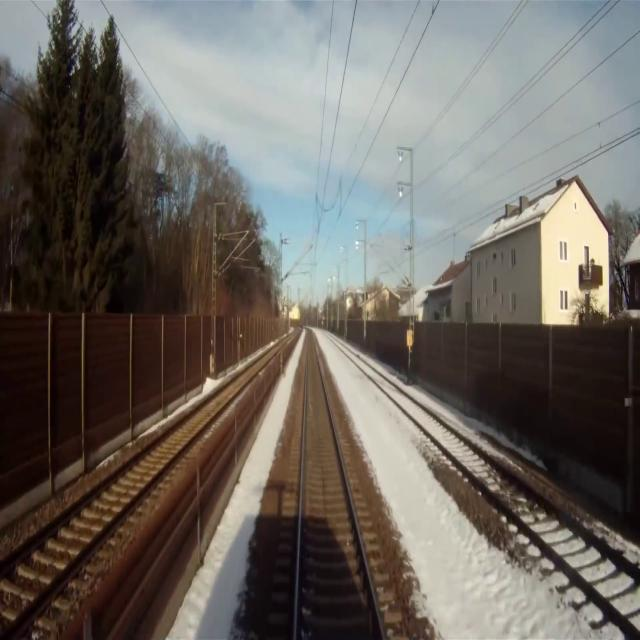rail-track: (0, 342, 283, 634), (346, 351, 640, 631), (297, 330, 380, 639)
